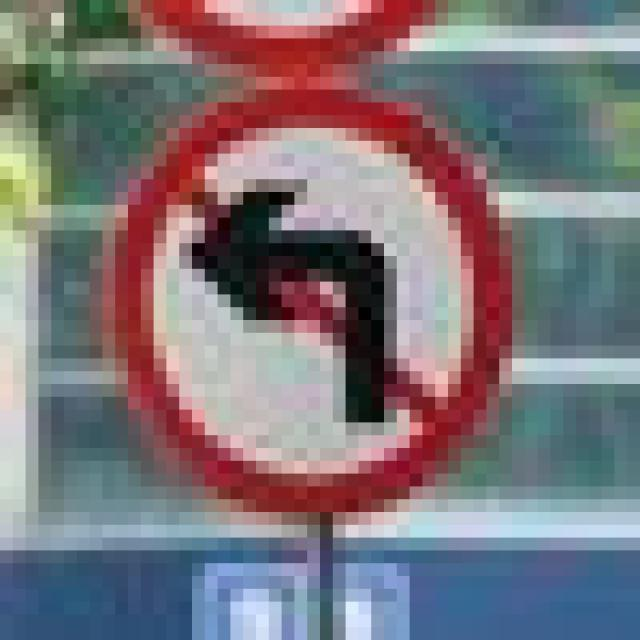left turn prohibited: (99, 88, 520, 520)
